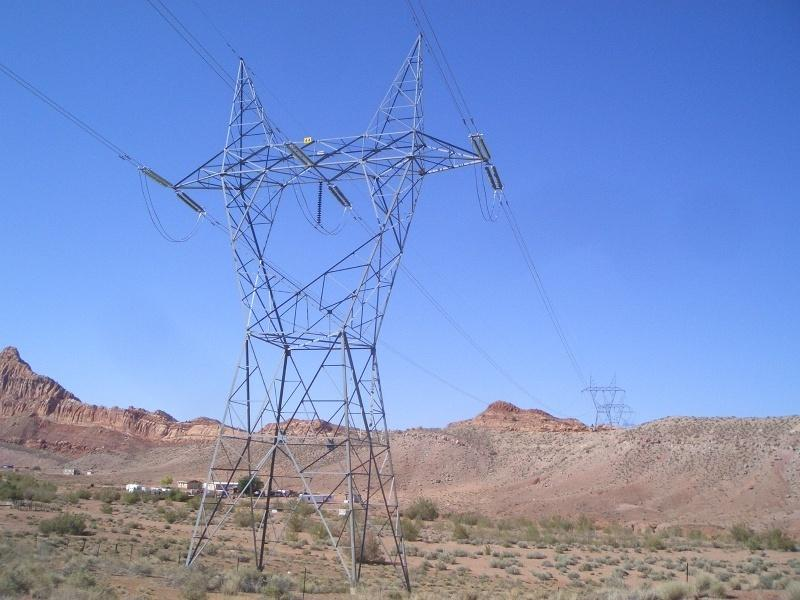power_tower: (141, 42, 495, 585), (571, 366, 636, 424)
